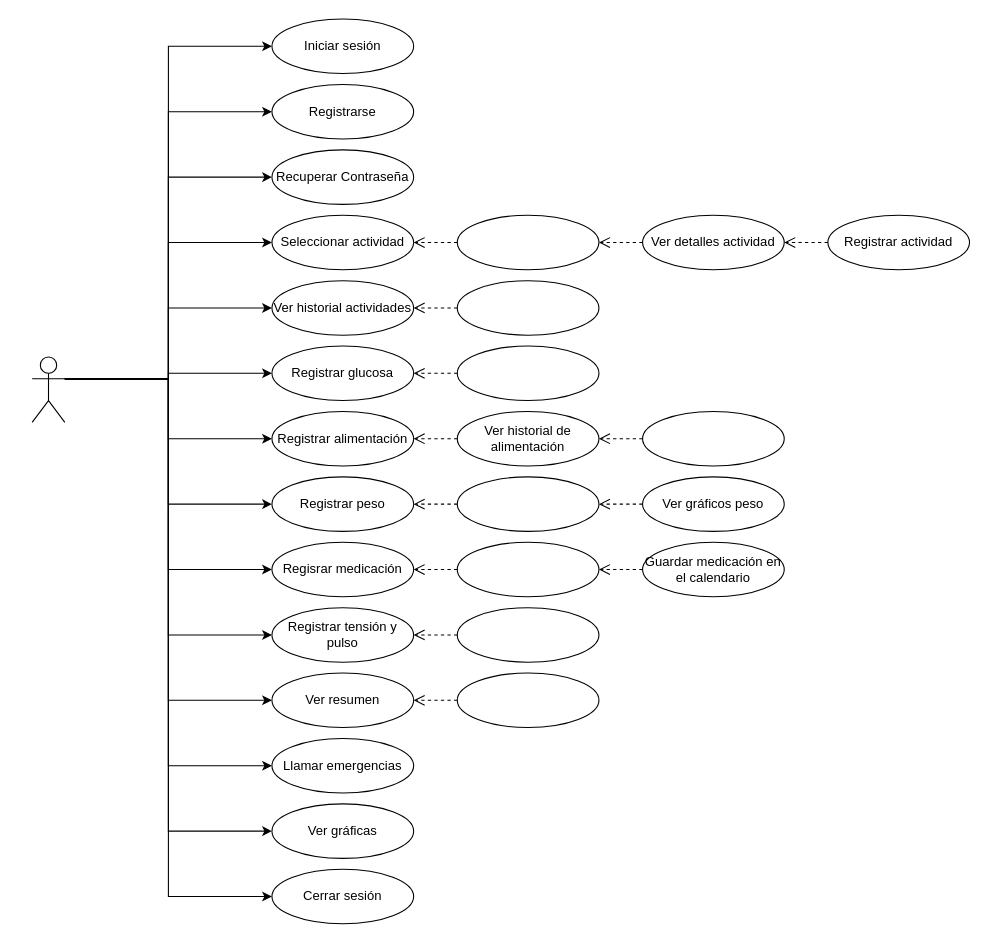
This 989x943 diagram has some shape labels left out. Here are the shapes that lost their labels. From the top down, the box of each, then its label:
(456, 214, 599, 270): Realizar actividad
(456, 280, 599, 335): Eliminar actividad
(31, 356, 65, 422): USUARIO
(456, 345, 599, 401): Ver gráficos glucosa
(641, 410, 784, 466): Editar historial alimentaicón
(456, 476, 599, 531): Registrar altura
(456, 541, 599, 597): Ver historial medicación
(456, 607, 599, 662): Ver gráficos tensión y pulso
(456, 672, 599, 728): Compartir resumen
